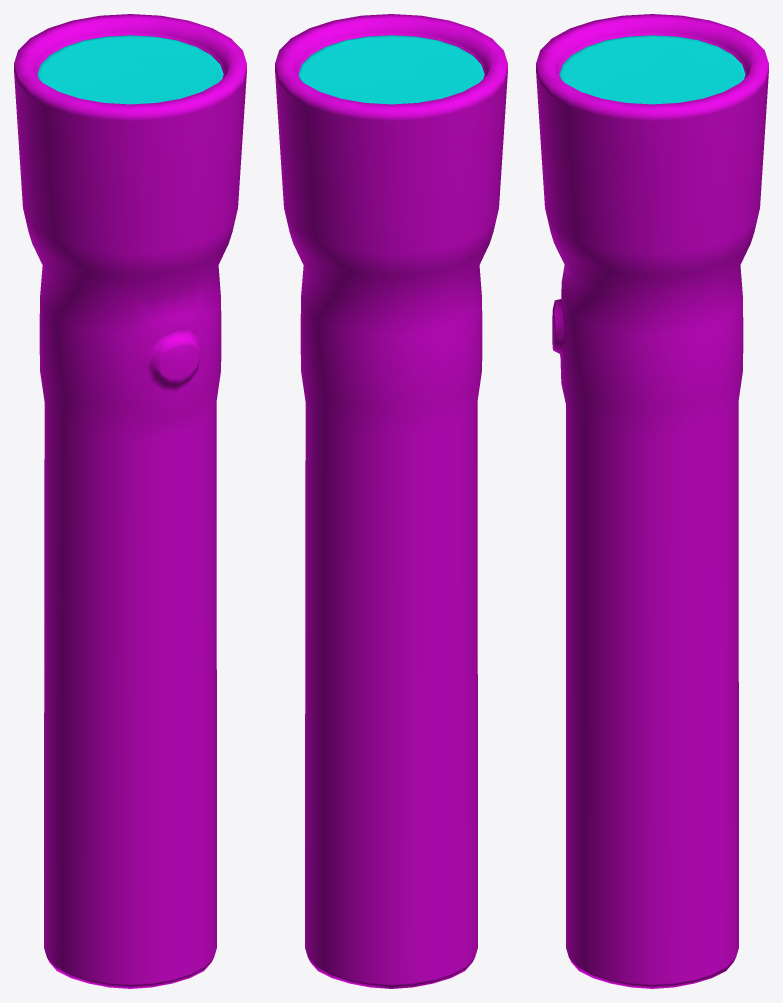
Rendered from Flashlight.fbx.
3 renders of one model, left to right at view 1: azimuth 30°, elevation 25°; view 2: azimuth 150°, elevation 25°; view 3: azimuth 270°, elevation 25°, orthographic.
Parts seen in each view (by area): view 1: Flashlight_LOD0; view 2: Flashlight_LOD0; view 3: Flashlight_LOD0.
Boxes of the visible parts, x1=… form: Flashlight_LOD0: x1=14, y1=14, x2=246, y2=988; Flashlight_LOD0: x1=275, y1=14, x2=507, y2=988; Flashlight_LOD0: x1=536, y1=14, x2=768, y2=988.
Size of what is drawn, in the model's own units: 4.86 by 20.54 by 4.86.
